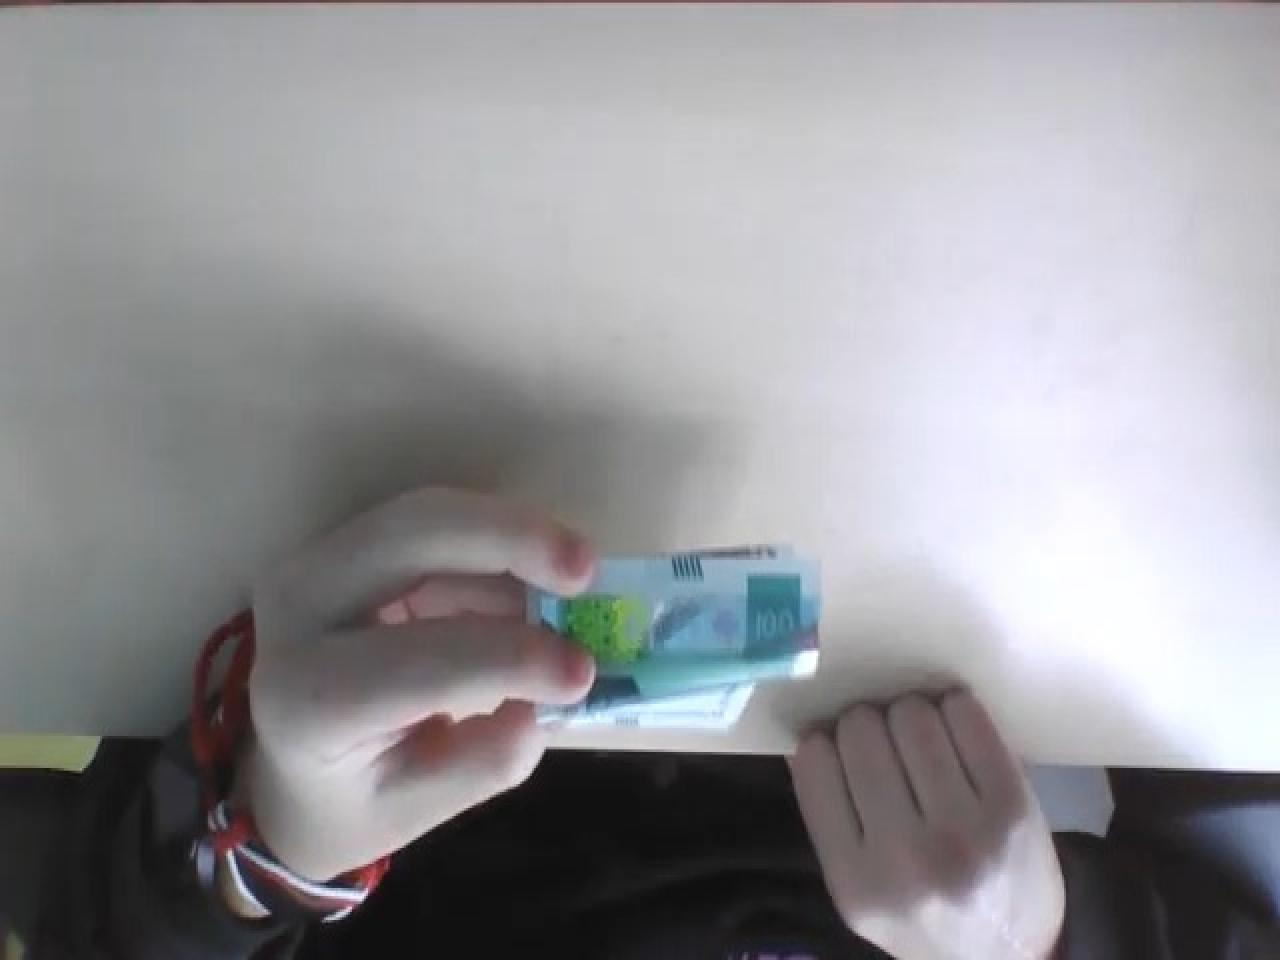100leva: (524, 542, 824, 736)
